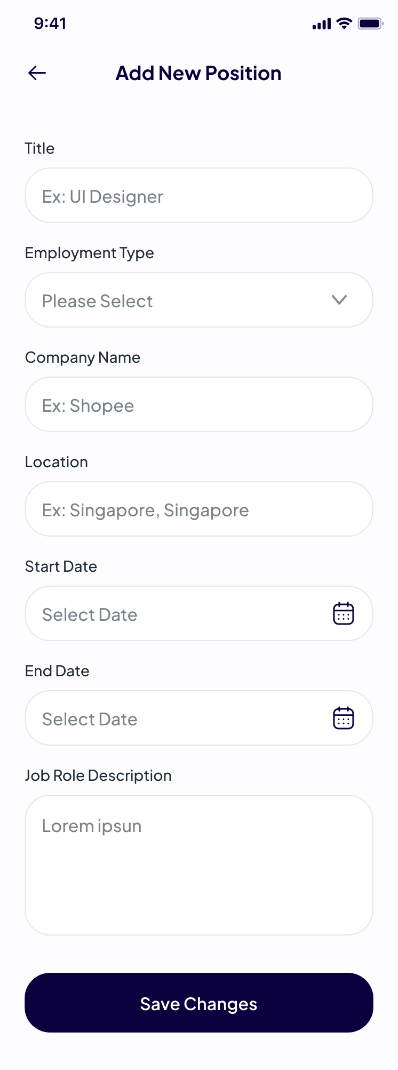AppBar: (1, 35, 398, 92)
